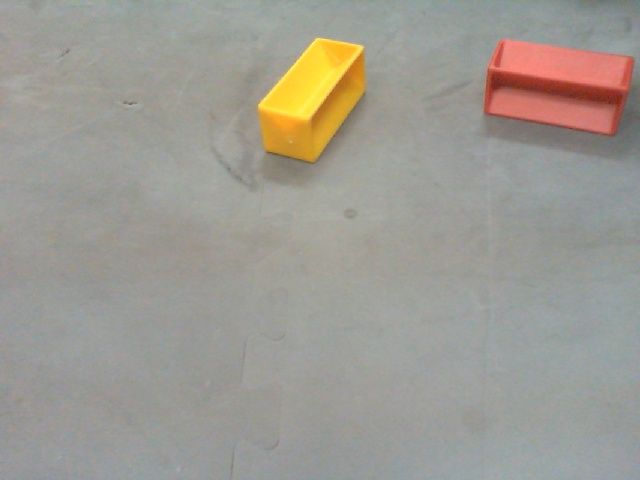RedSample: (482, 35, 637, 148)
YellowSample: (256, 37, 368, 165)
